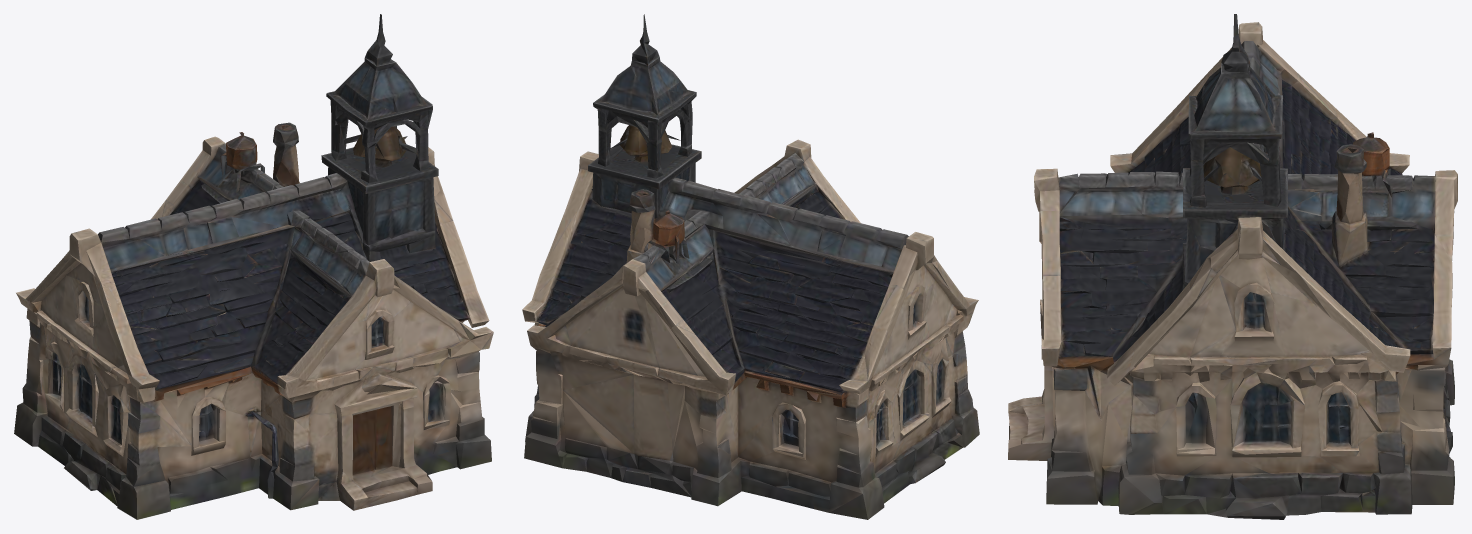
The model's file is university.glb.
3 views of the same model, side by side, from view 1: azimuth 30°, elevation 25°; view 2: azimuth 150°, elevation 25°; view 3: azimuth 270°, elevation 25° (orthographic). The views are drawn at different scales.
Bounding box in the file's own units: 1.8 × 1.9 × 1.64.
Materials: 1 (1 with a texture image).
